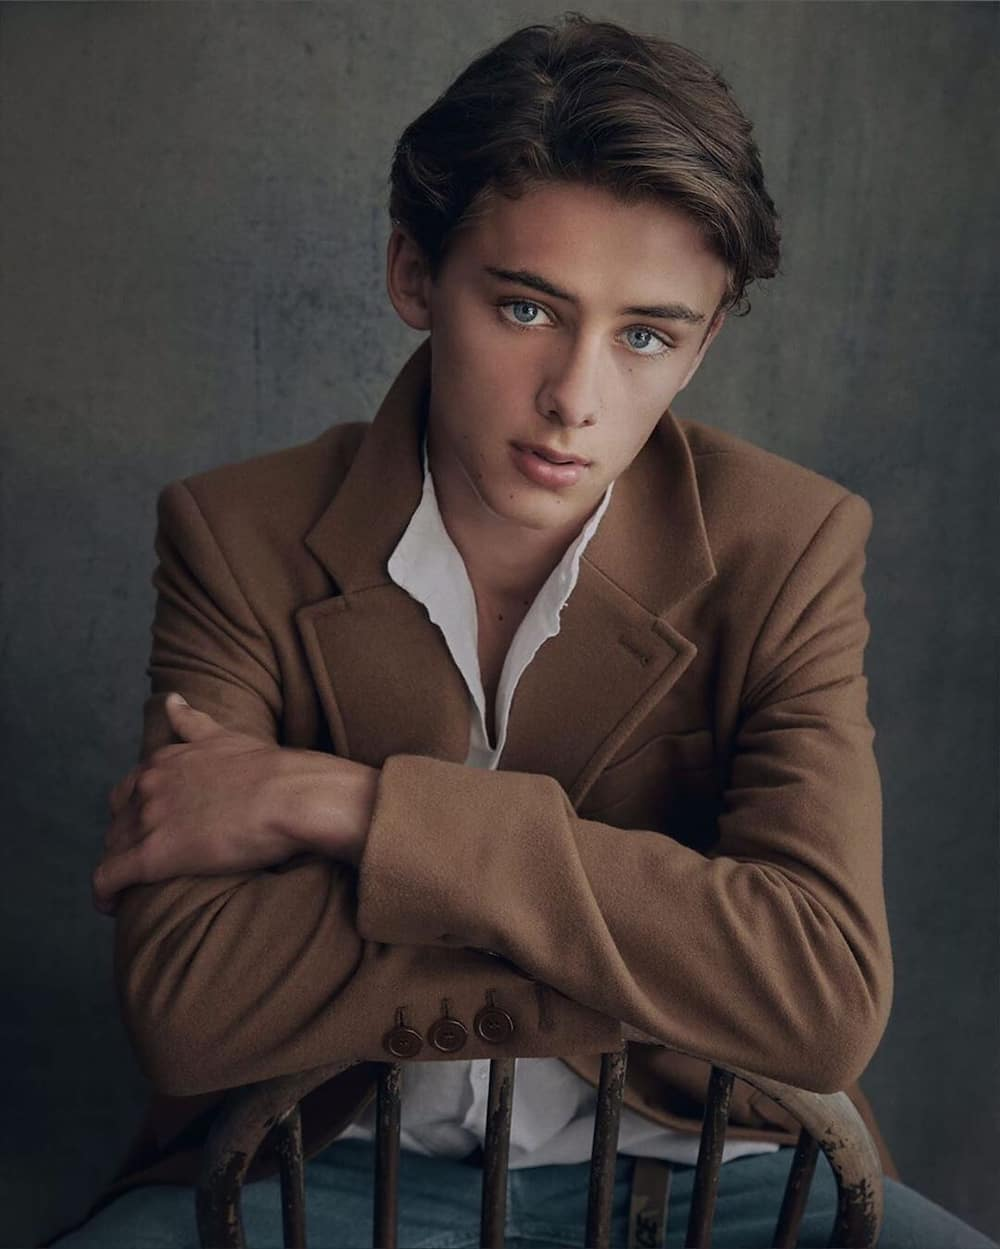person: (126, 19, 900, 1084)
